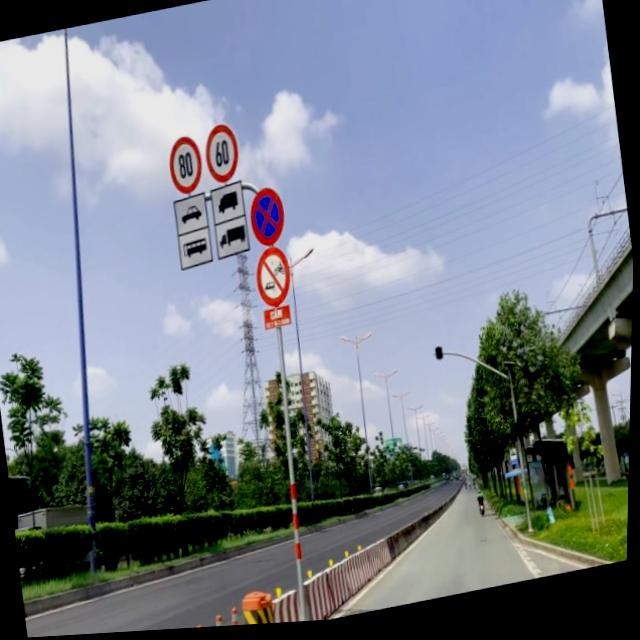Cam dung xe va do xe: (247, 186, 291, 253)
Toc do toi da cho phep: (201, 123, 244, 189), (166, 134, 208, 200)
